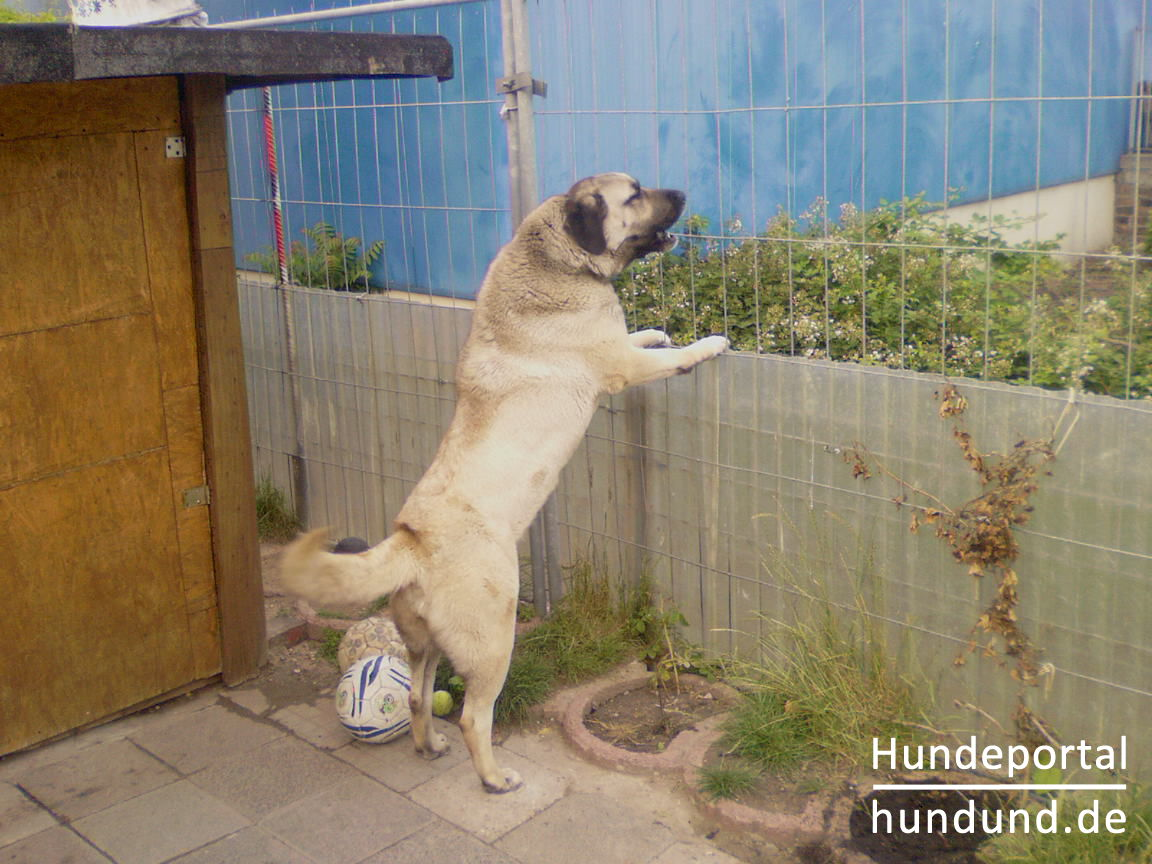kangal: (278, 171, 731, 794)
